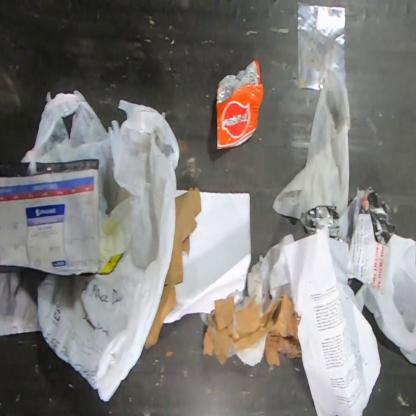cardboard: (145, 187, 201, 349), (202, 292, 302, 367)
rigid_plastic: (295, 3, 347, 91)
soft_plastic: (32, 89, 181, 402), (0, 160, 100, 275), (215, 61, 264, 150)
